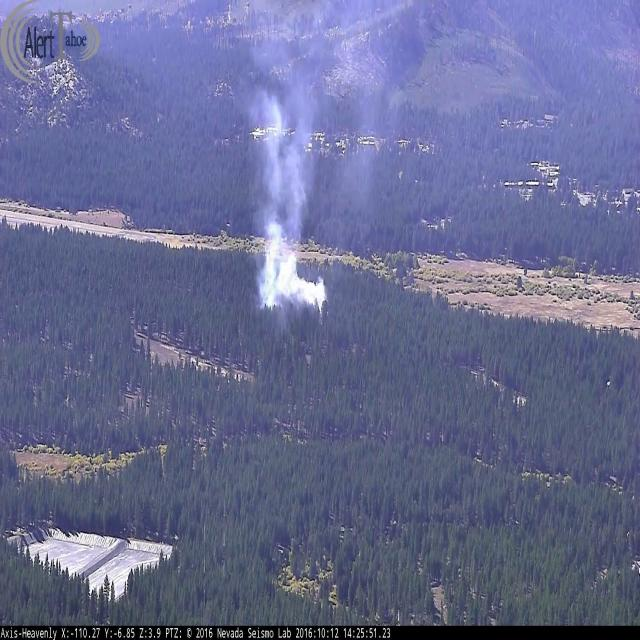smoke: (240, 0, 344, 314)
